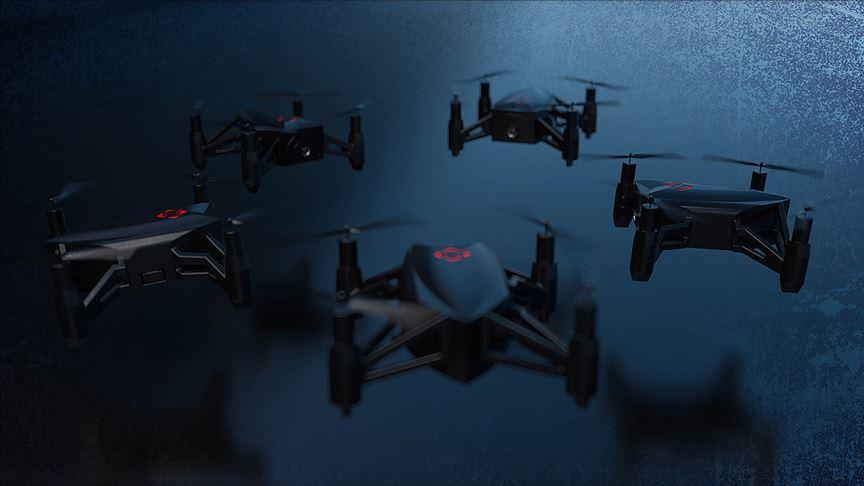drone: (300, 211, 618, 409), (583, 142, 847, 296), (36, 180, 269, 310), (194, 96, 408, 185), (427, 64, 615, 162)
